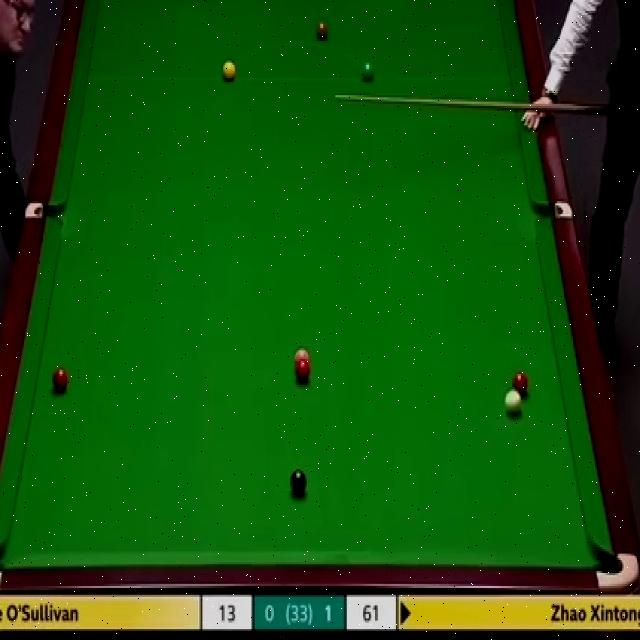black-ball: (288, 469, 309, 494)
brown-ball: (314, 22, 328, 44)
green-ball: (360, 59, 374, 82)
pink-ball: (294, 348, 310, 362)
red-ball: (51, 366, 69, 392), (513, 372, 528, 396), (296, 360, 311, 382)
white-ball: (504, 387, 522, 415)
yellow-ball: (221, 60, 236, 82)
